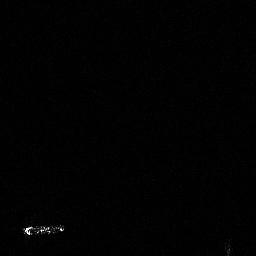ship: (18, 221, 67, 239)
